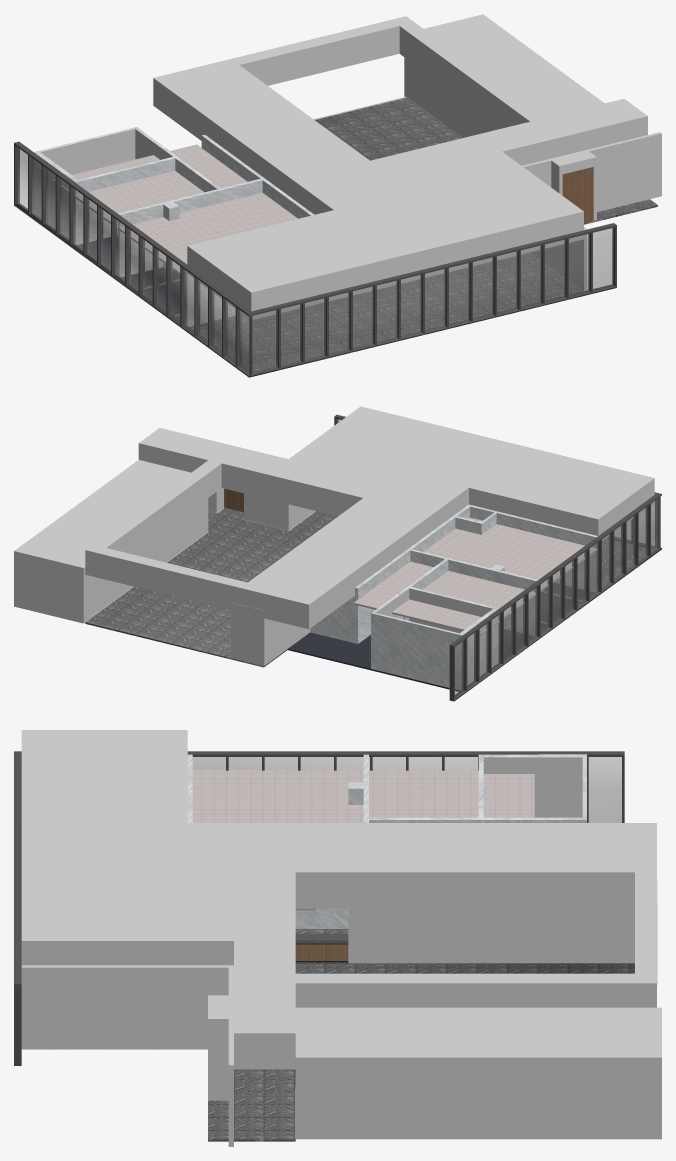
File: EnviKitchen_F01.fbx
3 views of the same model, one above another, from view 1: azimuth 30°, elevation 25°; view 2: azimuth 150°, elevation 25°; view 3: azimuth 270°, elevation 25° (orthographic). The views are drawn at different scales.
Visible parts, largest first — view 1: Atap, KacaBesar, TembokBasic, LantaiGranit, AtapDapur, FrameJendela02, TembokKeramik_07, FrameJendela01, FrameJendela03, FrameJendela04, Tembok_Keramik_03, Tembok_Keramik_01 (+3 smaller); view 2: Atap, TembokBasic, LantaiGranit, AtapDapur, KacaBesar, TembokKeramik_07, FrameJendela02, Tembok_Keramik_01, LantaiDapur, Tembok_Keramik_02, Tembok_Keramik_03, FrameJendela03 (+3 smaller); view 3: Atap, TembokBasic, AtapDapur, LantaiGranit, KacaBesar, FrameJendela03, TembokKeramik_07, Tembok_Keramik_01, TembokKayu, TiangTembokBasic, FrameJendela02, FrameJendela01.
Part boxes in pixels (x1,y1,x2,y2): Atap: (153,16,647,319); KacaBesar: (18,148,613,373); TembokBasic: (40,14,661,291); LantaiGranit: (190,98,657,371); AtapDapur: (53,144,297,274); FrameJendela02: (14,141,252,375); TembokKeramik_07: (34,127,220,244); FrameJendela01: (276,225,616,370); FrameJendela03: (15,142,616,316); FrameJendela04: (15,203,615,377); Tembok_Keramik_03: (117,178,262,277); Tembok_Keramik_01: (201,134,314,218); Atap: (85,406,654,629); TembokBasic: (14,460,492,665); LantaiGranit: (85,508,652,667); AtapDapur: (353,517,597,635); KacaBesar: (337,419,657,696); TembokKeramik_07: (371,559,498,690); FrameJendela02: (449,493,660,701); Tembok_Keramik_01: (310,506,469,643); LantaiDapur: (287,582,594,691); Tembok_Keramik_02: (467,504,597,592); Tembok_Keramik_03: (410,549,537,636); FrameJendela03: (334,414,661,646); Atap: (21,730,656,1069); TembokBasic: (21,757,661,1146); AtapDapur: (192,770,534,822); LantaiGranit: (22,929,634,1141); KacaBesar: (192,757,621,822); FrameJendela03: (14,751,624,986); TembokKeramik_07: (368,754,586,822); Tembok_Keramik_01: (295,908,348,928); TembokKayu: (295,944,348,961); TiangTembokBasic: (348,908,363,963); FrameJendela02: (14,751,624,822); FrameJendela01: (14,770,21,1065).
Size of the model in its own units: 2890 by 465 by 2520.
